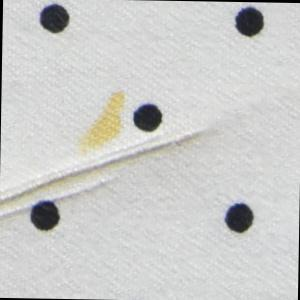Oil Stain: (1, 124, 213, 228)
Stain: (75, 87, 131, 159)
